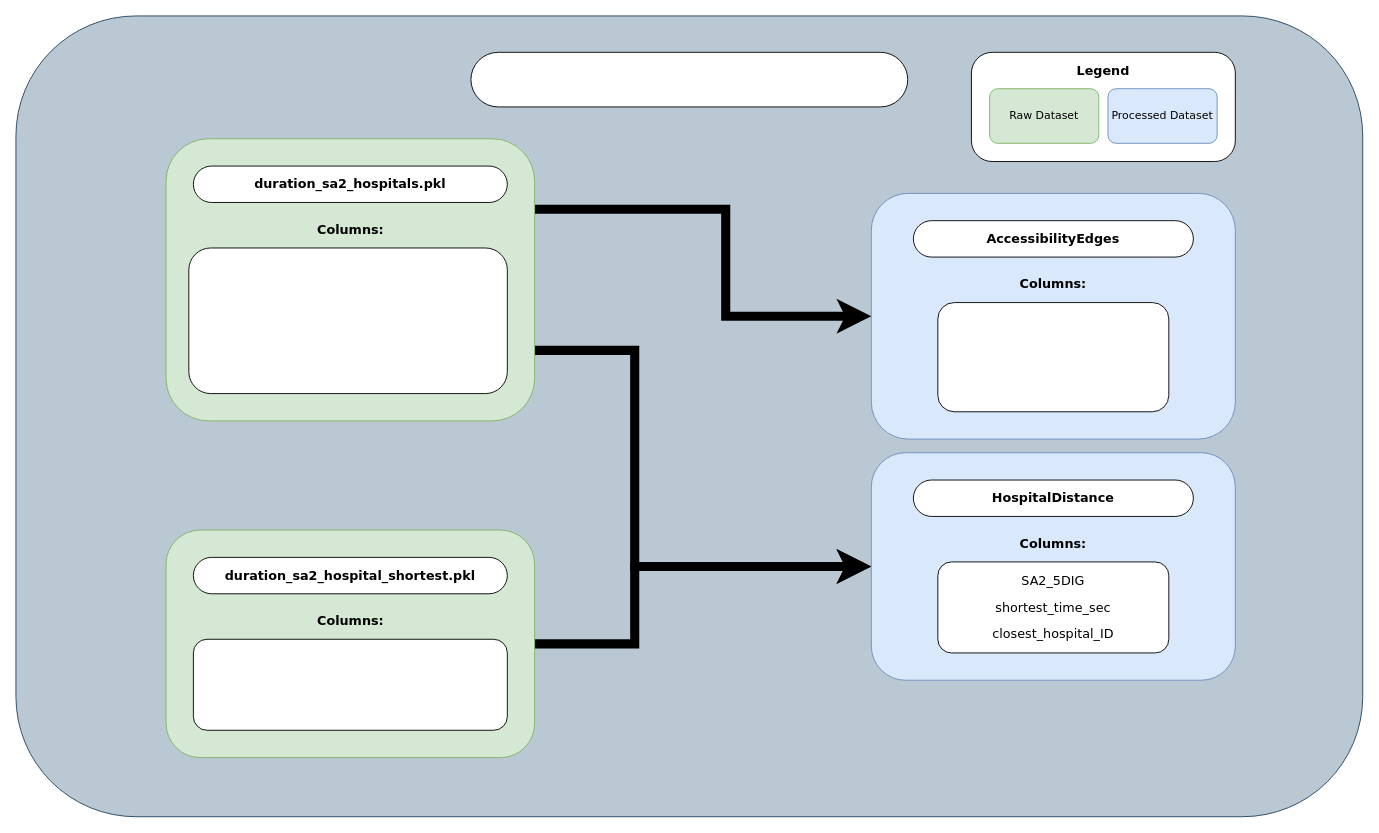
The diagram is 1379 pixels wide and 833 high, and some of its shapes have lost their labels. Here are the shapes that lost their labels. From the top down, the centre of each, then its label:
At [689,79]: "Hospital Distance Preprocessing".
At [347,320]: "SA2_5DIG16 time_to_1 time_to_2 ... time_to_1011".
At [1053,357]: "SA2_5DIG hospital_ID accessible further_than_2h".
At [349,684]: "SA2_5DIG16 shortest_time_sec shortest_time_min".
